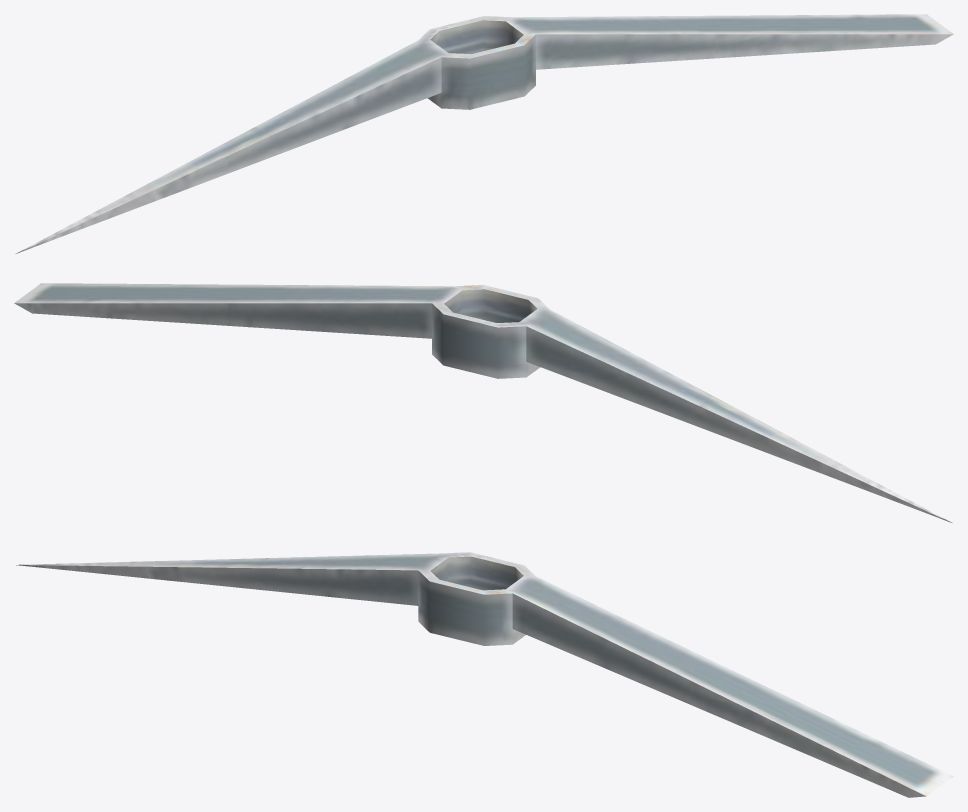
Rendered from pickaxe.glb.
3 views of the same model, one above another, from view 1: azimuth 30°, elevation 25°; view 2: azimuth 150°, elevation 25°; view 3: azimuth 330°, elevation 25° (orthographic).
Parts seen in each view (by area): view 1: PickAxe.001; view 2: PickAxe.001; view 3: PickAxe.001.
Boxes of the visible parts, box(x1,y1,x2,y2) form: PickAxe.001: box(16, 14, 953, 253); PickAxe.001: box(14, 283, 951, 522); PickAxe.001: box(16, 552, 953, 797).
Bounding box in the file's own units: 0.8297 × 0.0907 × 0.0623.
1 material, 1 textured.
